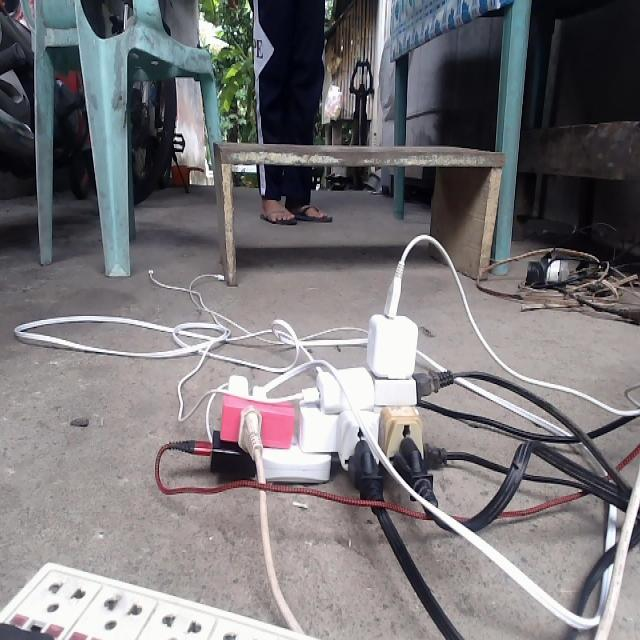-: (169, 258, 457, 518)
